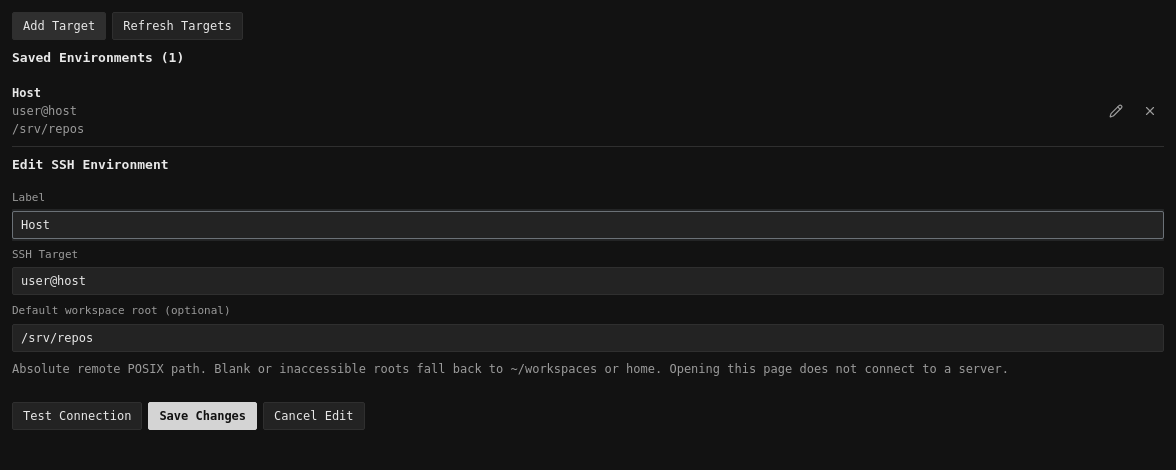
canonical SSH Targets › validates Default workspace root (optional) before mutation
This screenshot has width=1176, height=470.
expect the heading "Saved Environments (1)" is shown: met, box 12,50 -> 184,65
Replace the text in the field labelled "Default workspace root (optional)" with "~/repos" at (588, 338), box 12,324 -> 1164,352
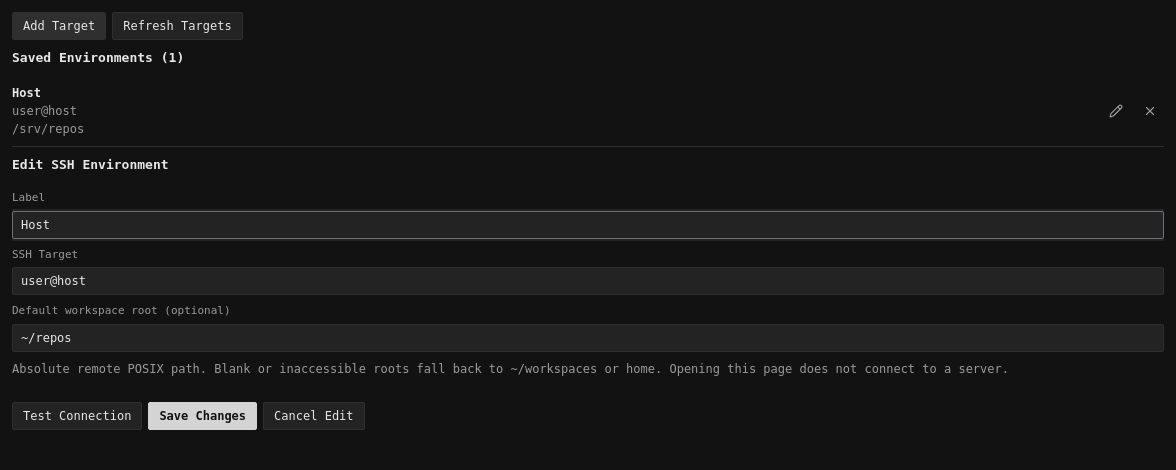
Click the button "Save Changes" at (203, 416), box 148,402 -> 257,430
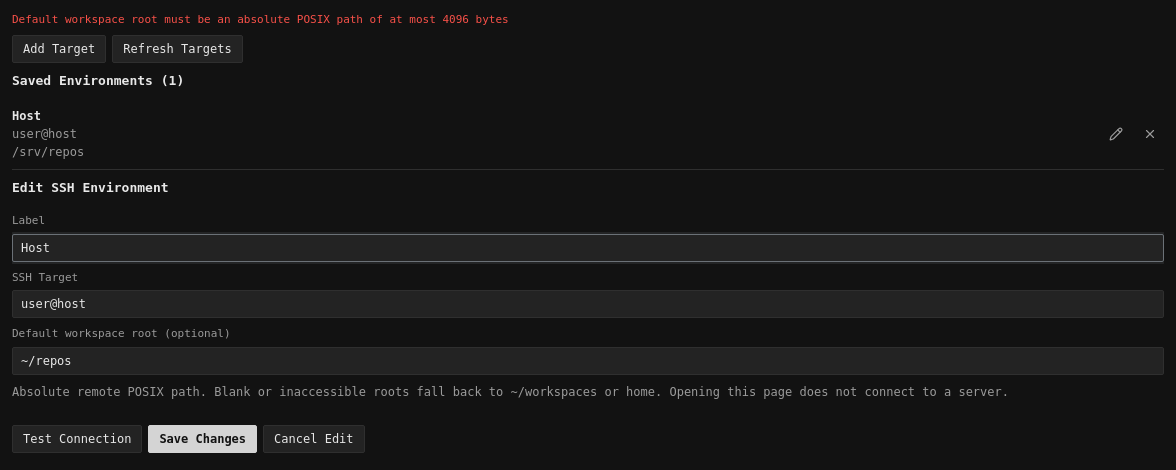
expect the message "Default workspace root must be an absolute POSIX path of at most 4096 bytes" is shown: met, box 12,13 -> 509,26
